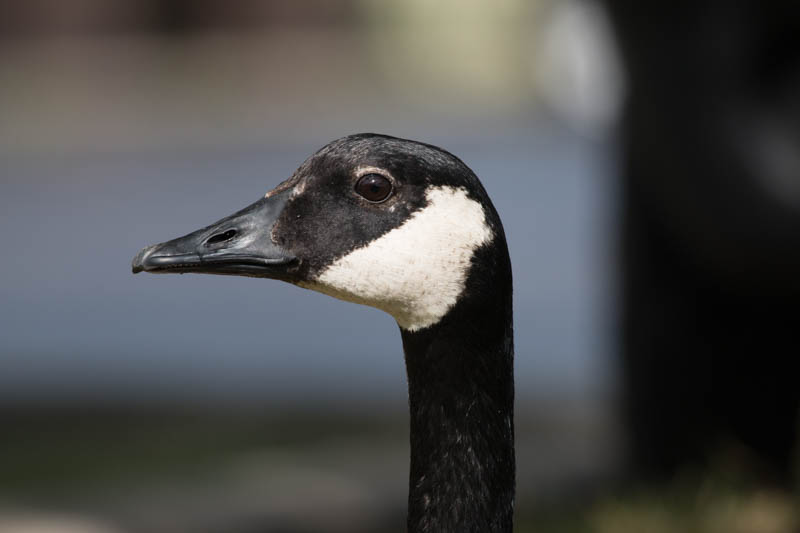goose-head: (131, 133, 513, 333)
